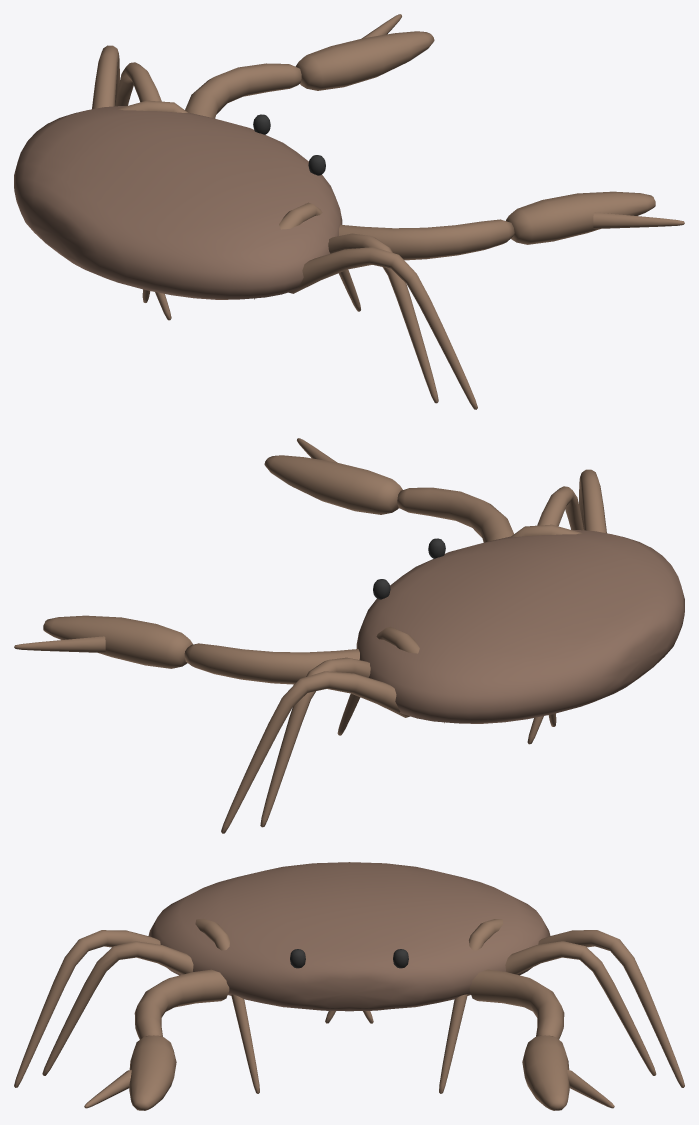
File: dungeness_crab.glb
3 renders of one model, top to bottom at view 1: azimuth 30°, elevation 25°; view 2: azimuth 150°, elevation 25°; view 3: azimuth 270°, elevation 25°, orthographic. The views are drawn at different scales.
Parts seen in each view (by area): view 1: dungeness_crab; view 2: dungeness_crab; view 3: dungeness_crab.
Boxes of the visible parts, box(x1,y1,x2,y2) form: dungeness_crab: box(14, 14, 684, 409); dungeness_crab: box(14, 438, 684, 833); dungeness_crab: box(14, 862, 684, 1110).
Bounding box in the file's own units: 0.2449 × 0.0705 × 0.3127.
